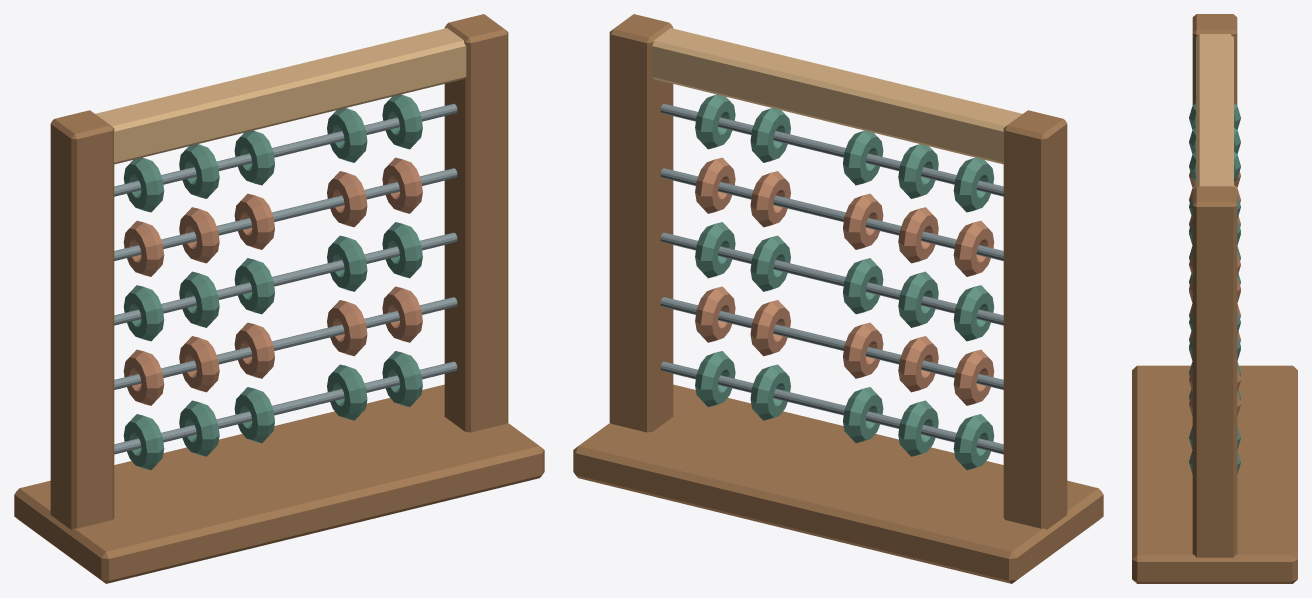
3 renders of one model, left to right at view 1: azimuth 30°, elevation 25°; view 2: azimuth 150°, elevation 25°; view 3: azimuth 270°, elevation 25°, orthographic. The views are drawn at different scales.
Visible parts, largest first — view 1: education-abacus-01; view 2: education-abacus-01; view 3: education-abacus-01.
Part boxes in pixels (left/top/right/bottom): education-abacus-01: left=14, top=14, right=544, bottom=583; education-abacus-01: left=573, top=14, right=1103, bottom=583; education-abacus-01: left=1132, top=14, right=1297, bottom=583.
Bounding box in the file's own units: 0.72 × 0.66 × 0.26.
